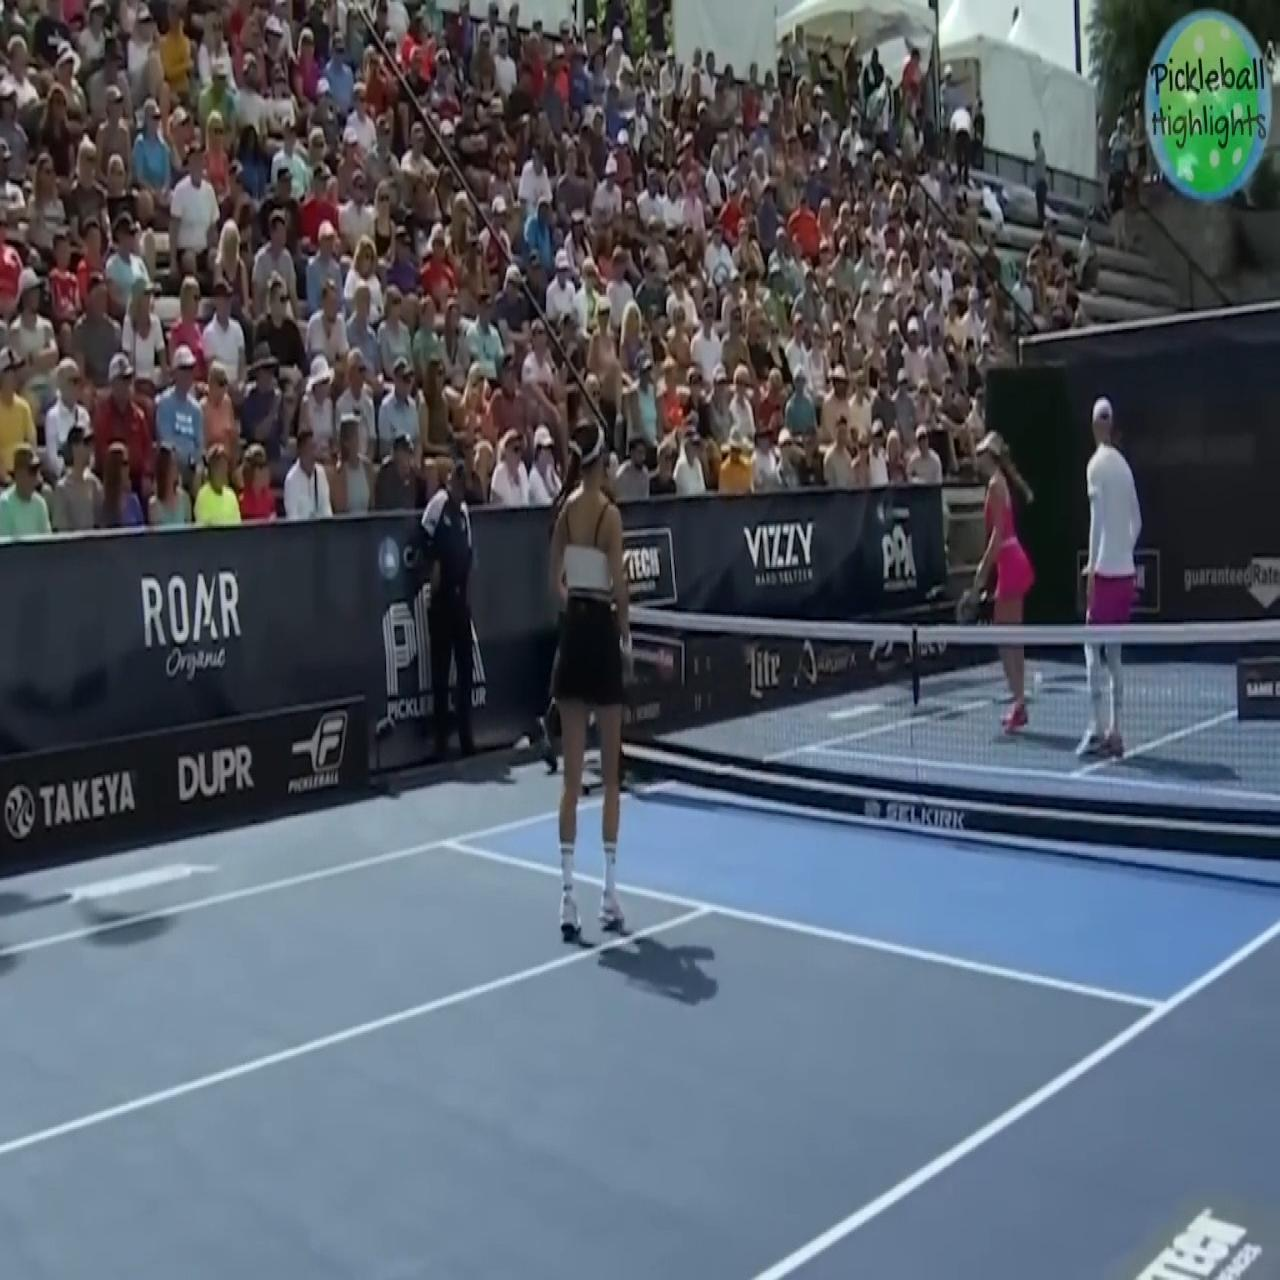Pickleball: (1030, 663, 1046, 692)
